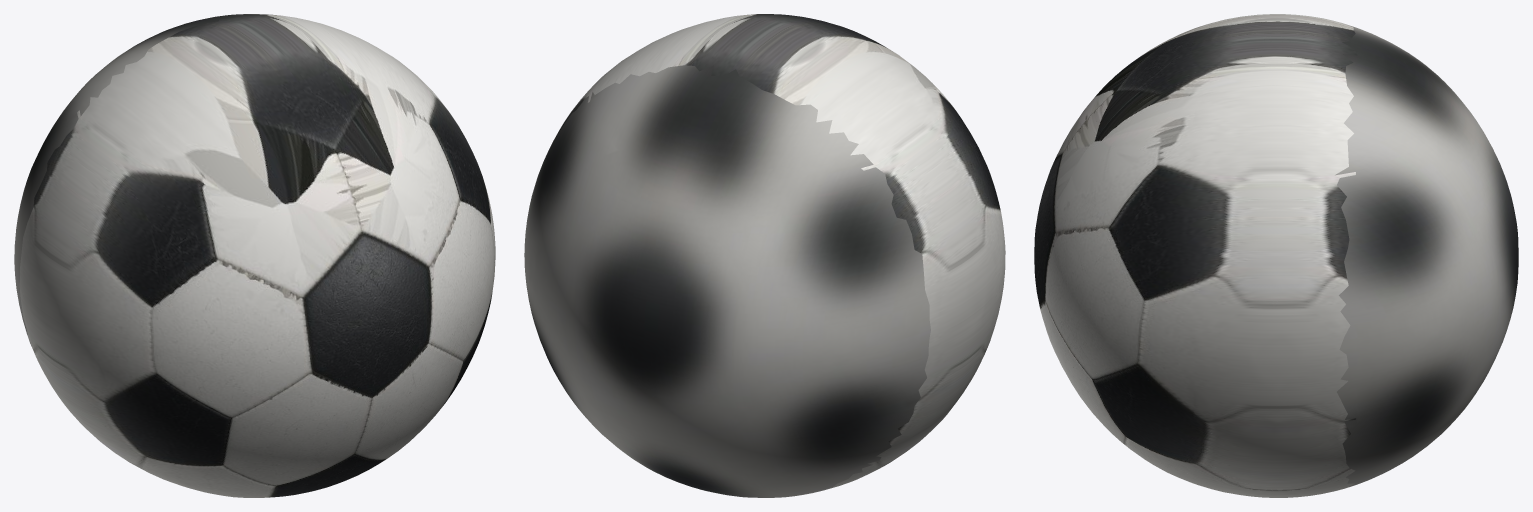
The model's file is ball.glb.
3 views of the same model, side by side, from view 1: azimuth 30°, elevation 25°; view 2: azimuth 150°, elevation 25°; view 3: azimuth 270°, elevation 25° (orthographic).
Parts seen in each view (by area): view 1: ball; view 2: ball; view 3: ball.
Boxes of the visible parts, x1,y1,x2,y2 form: ball: (14,14,495,497); ball: (524,14,1005,497); ball: (1034,14,1518,497).
Bounding box in the file's own units: 4.4 × 4.4 × 4.4.
1 material, 1 textured.
